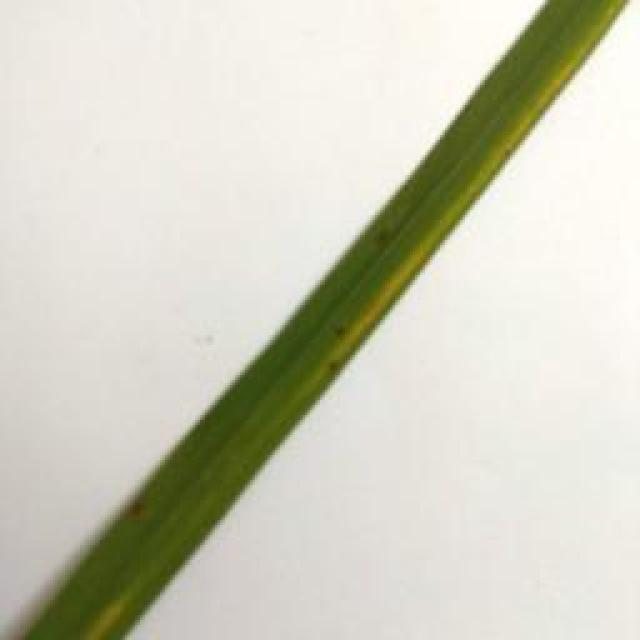Brown_Spot: (279, 338, 391, 410), (108, 460, 162, 546), (314, 311, 358, 355), (363, 216, 389, 251)
